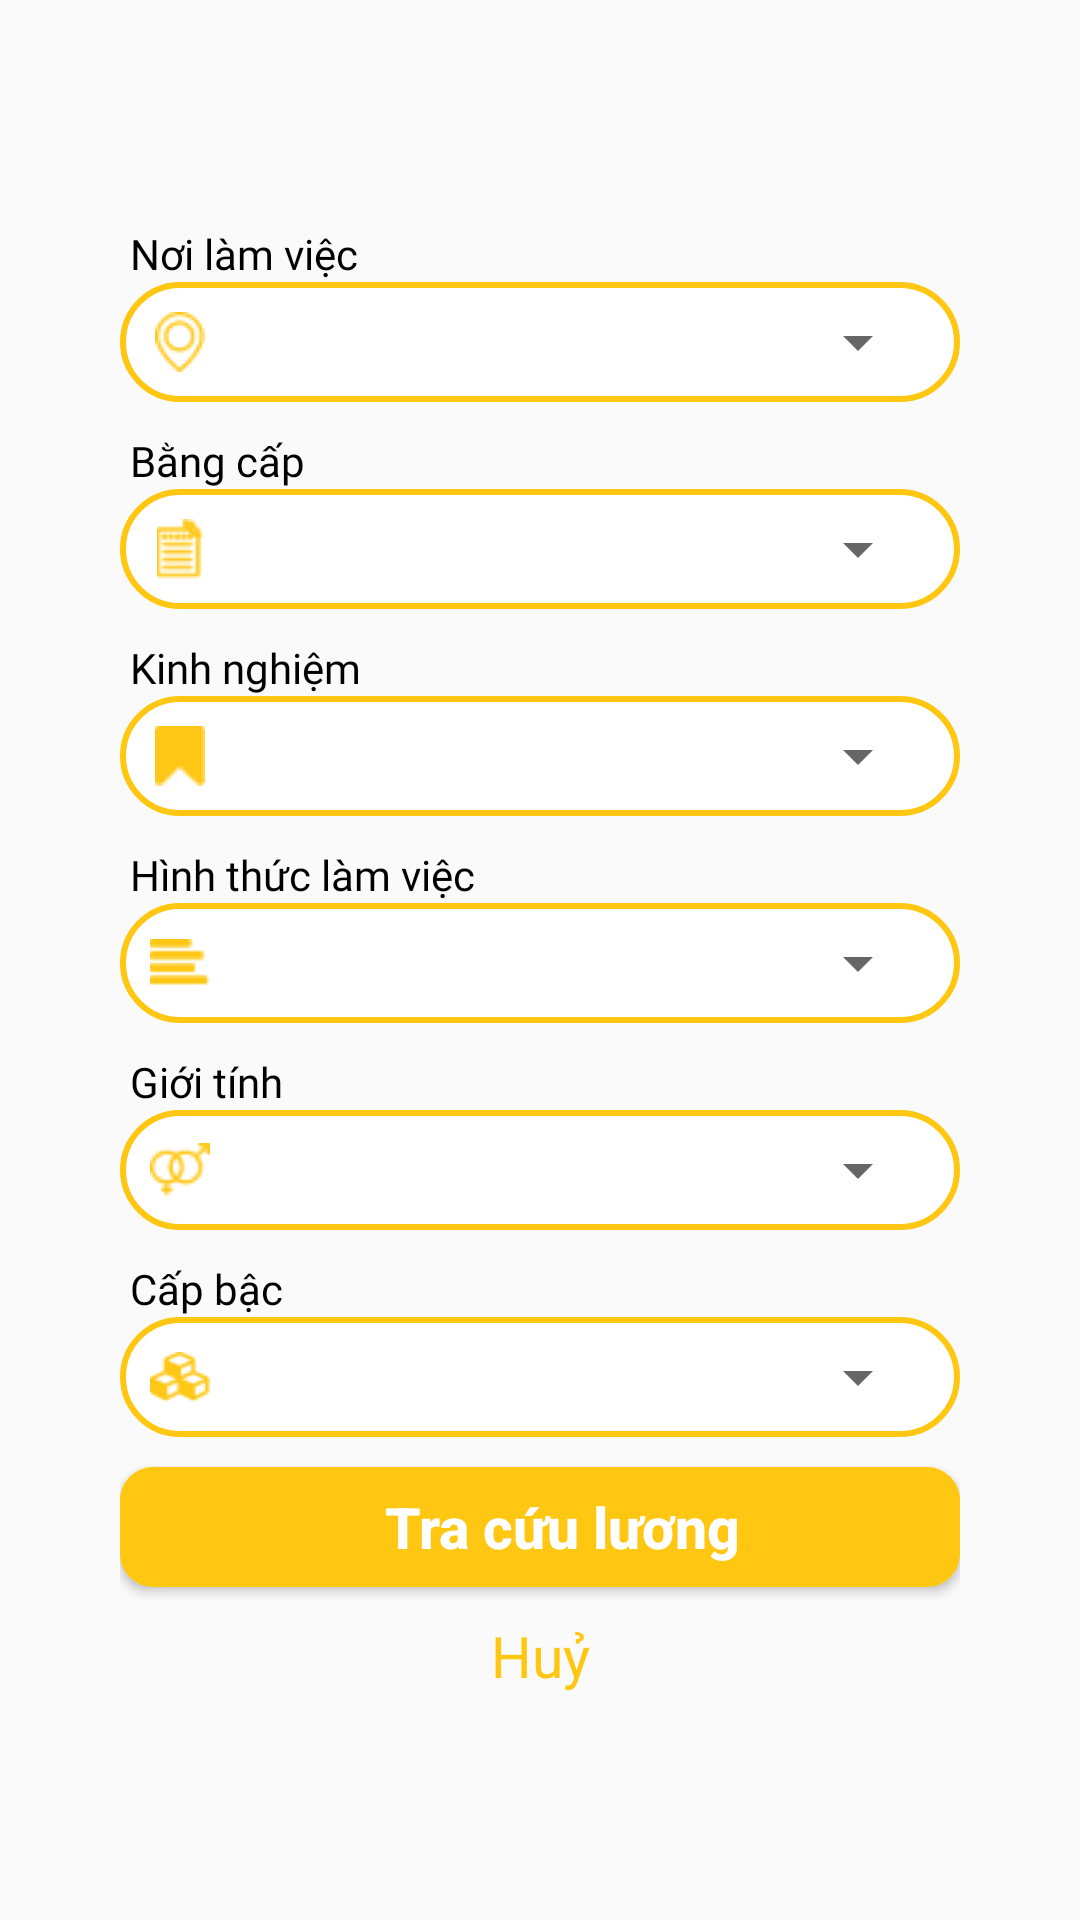

Named icons in this screenshot (1080w x 1920h) and their centers, point (x, y):
adress: point (180, 342)
form: point (180, 962)
gender: point (180, 1170)
